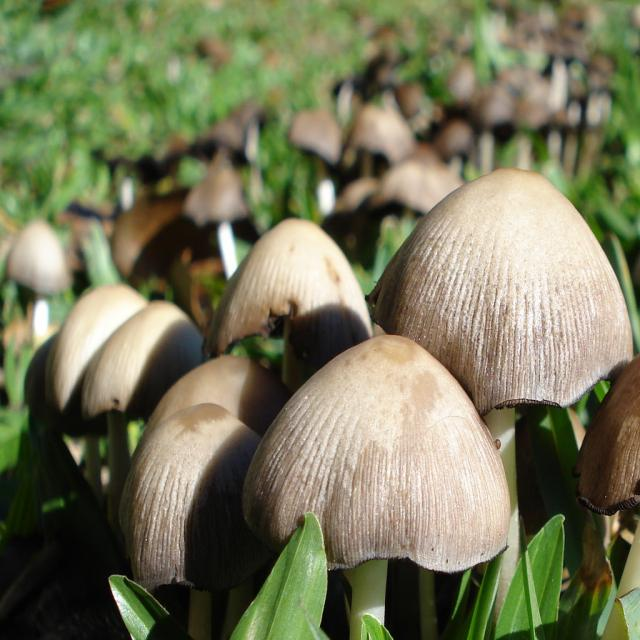Mushroom: (0, 0, 639, 639), (244, 335, 514, 639)
